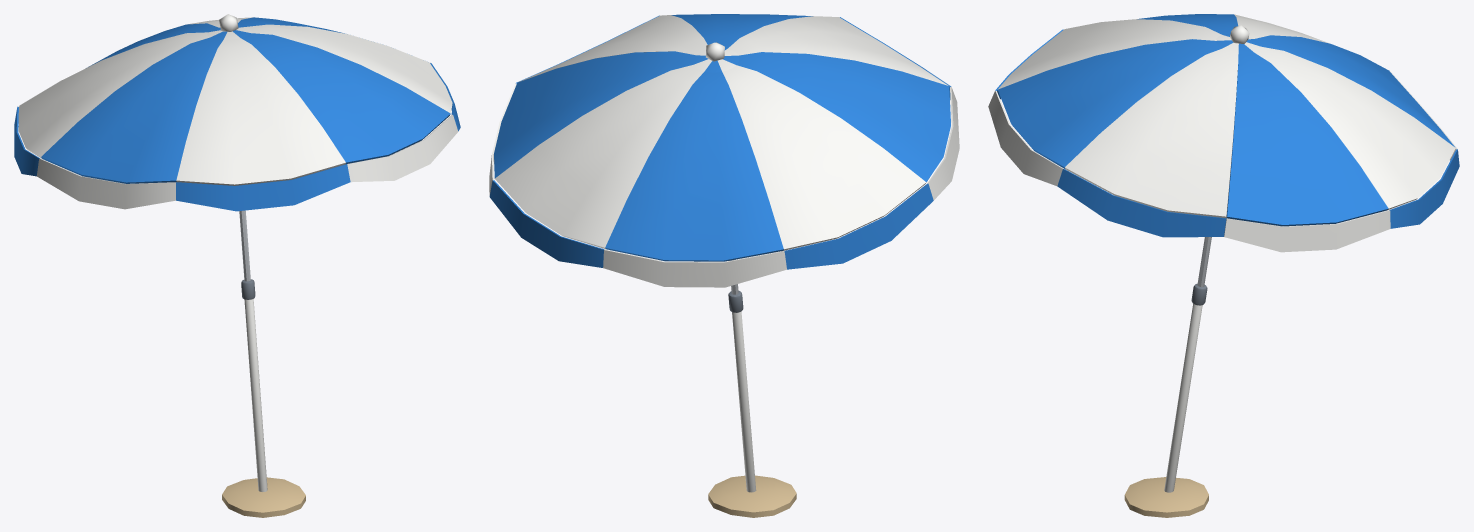
File: guarda_sol_praia_azul.glb
3 views of the same model, side by side, from view 1: azimuth 30°, elevation 25°; view 2: azimuth 150°, elevation 25°; view 3: azimuth 270°, elevation 25° (orthographic). The views are drawn at different scales.
Visible parts, largest first — view 1: guarda_sol_praia_azul; view 2: guarda_sol_praia_azul; view 3: guarda_sol_praia_azul.
Boxes of the visible parts, bbox=[...] form: guarda_sol_praia_azul: bbox=[14, 14, 460, 517]; guarda_sol_praia_azul: bbox=[489, 14, 959, 517]; guarda_sol_praia_azul: bbox=[988, 14, 1459, 517].
Bounding box in the file's own units: 2.17 × 2.41 × 2.15.
Materials: 1 (1 with a texture image).
